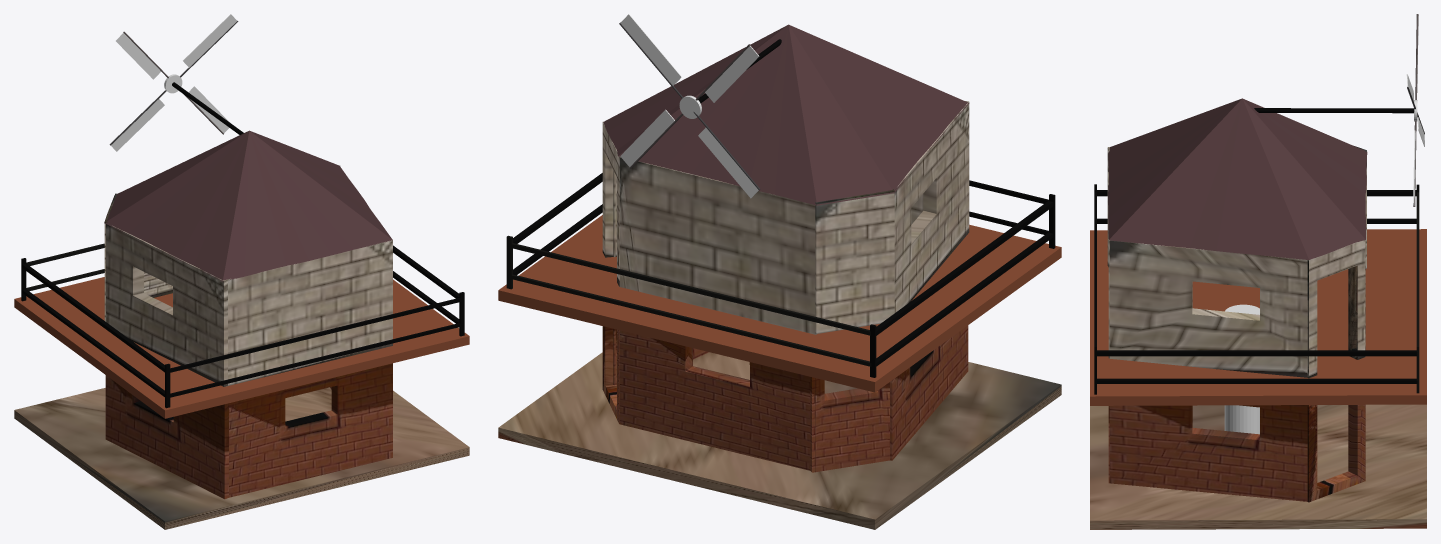
File: Decorationsss.fbx
The picture shows the model from 3 angles, left to right: view 1: azimuth 30°, elevation 25°; view 2: azimuth 150°, elevation 25°; view 3: azimuth 270°, elevation 25°; orthographic projection. The views are drawn at different scales.
Visible parts, largest first — view 1: Cone, Cube.017, Cube.010, Cube, Cube.006, Cube.008, Cube.005, Cube.026, Cube.025, Cube.023, Cube.024, Cube.015 (+2 smaller); view 2: Cone, Cube.017, Cube, Cube.011, Cube.002, Cube.007, Cube.008, Cube.003, Cube.005, Cube.024, Cube.025, Cube.009 (+7 smaller); view 3: Cone, Cube, Cube.017, Cube.012, Cube.004, Cube.023, Cube.009, Cube.001, Cylinder.004, Cylinder, Cube.025, Cube.024 (+1 smaller).
Boxes of the visible parts, <box> form: Cone: <box>104,130,392,281</box>; Cube.017: <box>14,387,469,529</box>; Cube.010: <box>226,240,392,386</box>; Cube: <box>14,277,469,418</box>; Cube.006: <box>229,363,392,497</box>; Cube.008: <box>106,224,230,386</box>; Cube.005: <box>105,375,228,499</box>; Cube.026: <box>165,298,462,408</box>; Cube.025: <box>21,258,164,396</box>; Cube.023: <box>393,245,464,336</box>; Cube.024: <box>26,243,104,291</box>; Cube.015: <box>183,14,236,67</box>; Cone: <box>603,24,969,205</box>; Cube.017: <box>498,352,1061,529</box>; Cube: <box>498,215,1061,392</box>; Cube.011: <box>619,157,816,334</box>; Cube.002: <box>619,330,815,471</box>; Cube.007: <box>815,189,894,333</box>; Cube.008: <box>894,101,969,312</box>; Cube.003: <box>810,377,889,472</box>; Cube.005: <box>890,325,968,460</box>; Cube.024: <box>506,235,871,366</box>; Cube.025: <box>870,200,1053,377</box>; Cube.009: <box>602,121,619,286</box>; Cone: <box>1108,98,1367,259</box>; Cube: <box>1090,229,1426,405</box>; Cube.017: <box>1090,404,1426,529</box>; Cube.012: <box>1109,240,1307,377</box>; Cube.004: <box>1109,405,1307,501</box>; Cube.023: <box>1094,344,1417,394</box>; Cube.009: <box>1307,240,1365,378</box>; Cube.001: <box>1307,405,1365,502</box>; Cylinder.004: <box>1224,304,1259,434</box>; Cylinder: <box>1254,108,1414,113</box>; Cube.025: <box>1096,184,1419,223</box>; Cube.024: <box>1416,192,1419,393</box>.
Bounding box in the file's own units: 2062 × 2362 × 1768.
Materials: 25 (13 with a texture image).
